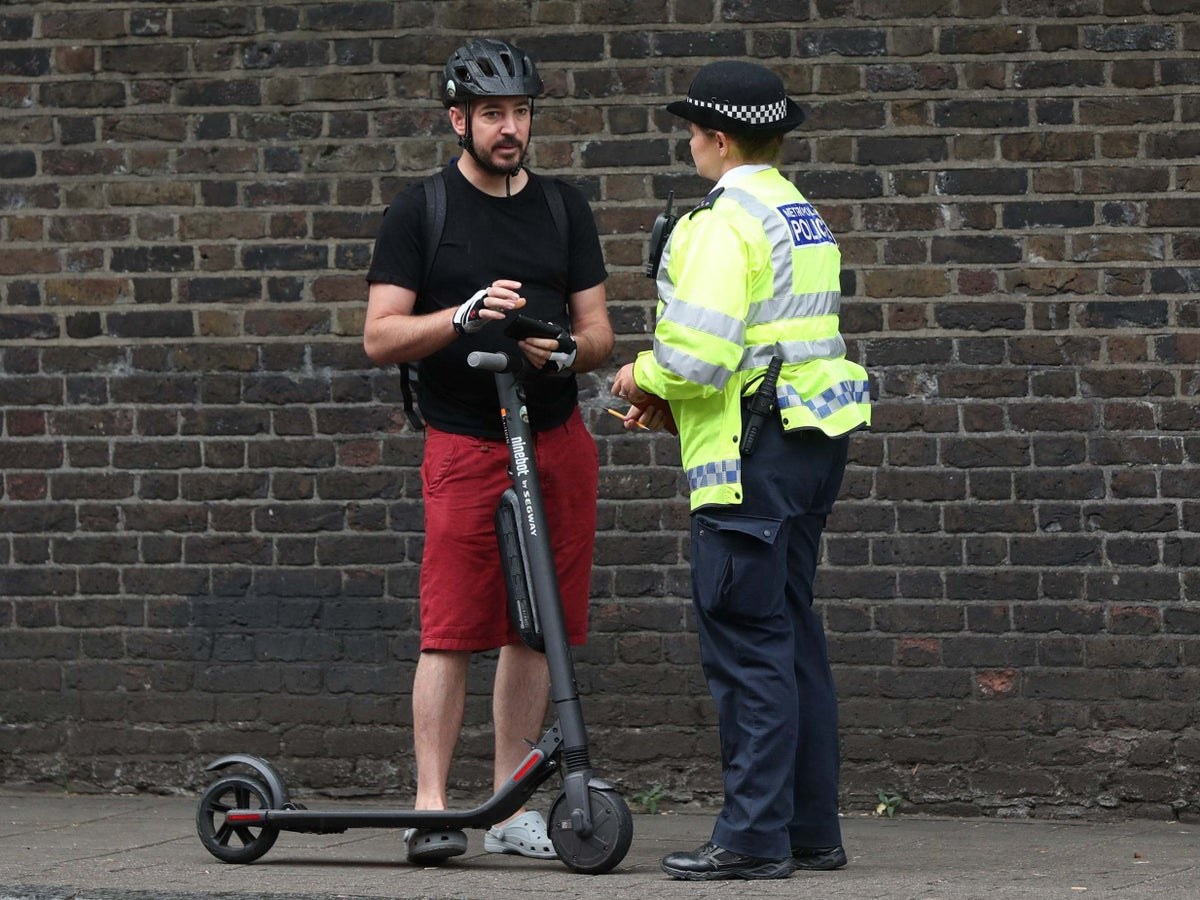scooter: (188, 334, 647, 882)
with helmet: (427, 39, 551, 182)
